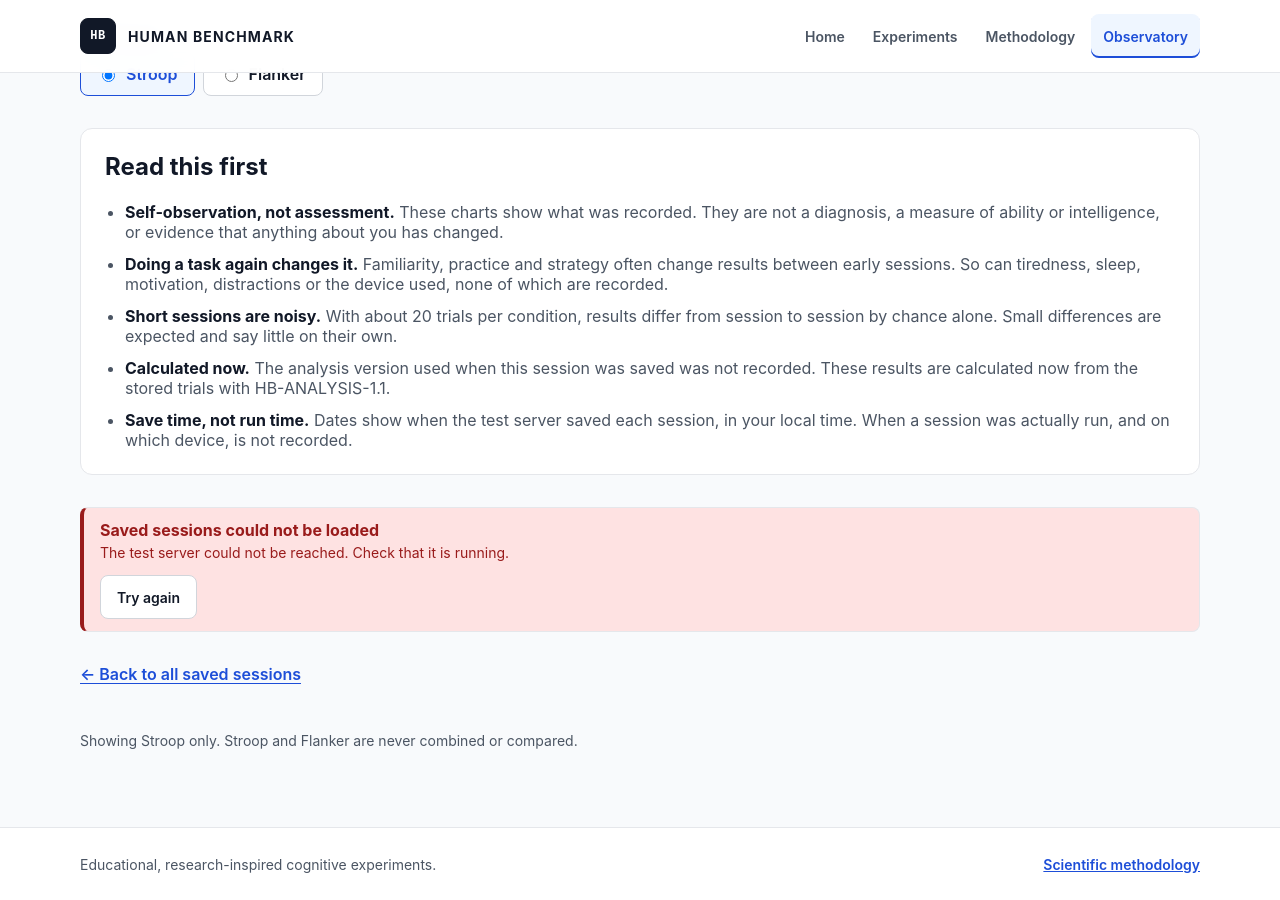
Test: Trends: states and requests › reports a failure and can try again
(page scrolled)
Expected: the message shows "could not be reached", x1=100 y1=544 x2=509 y2=561
Click the button "Try again" at {"x": 149, "y": 597}, box x1=100 y1=575 x2=197 y2=619
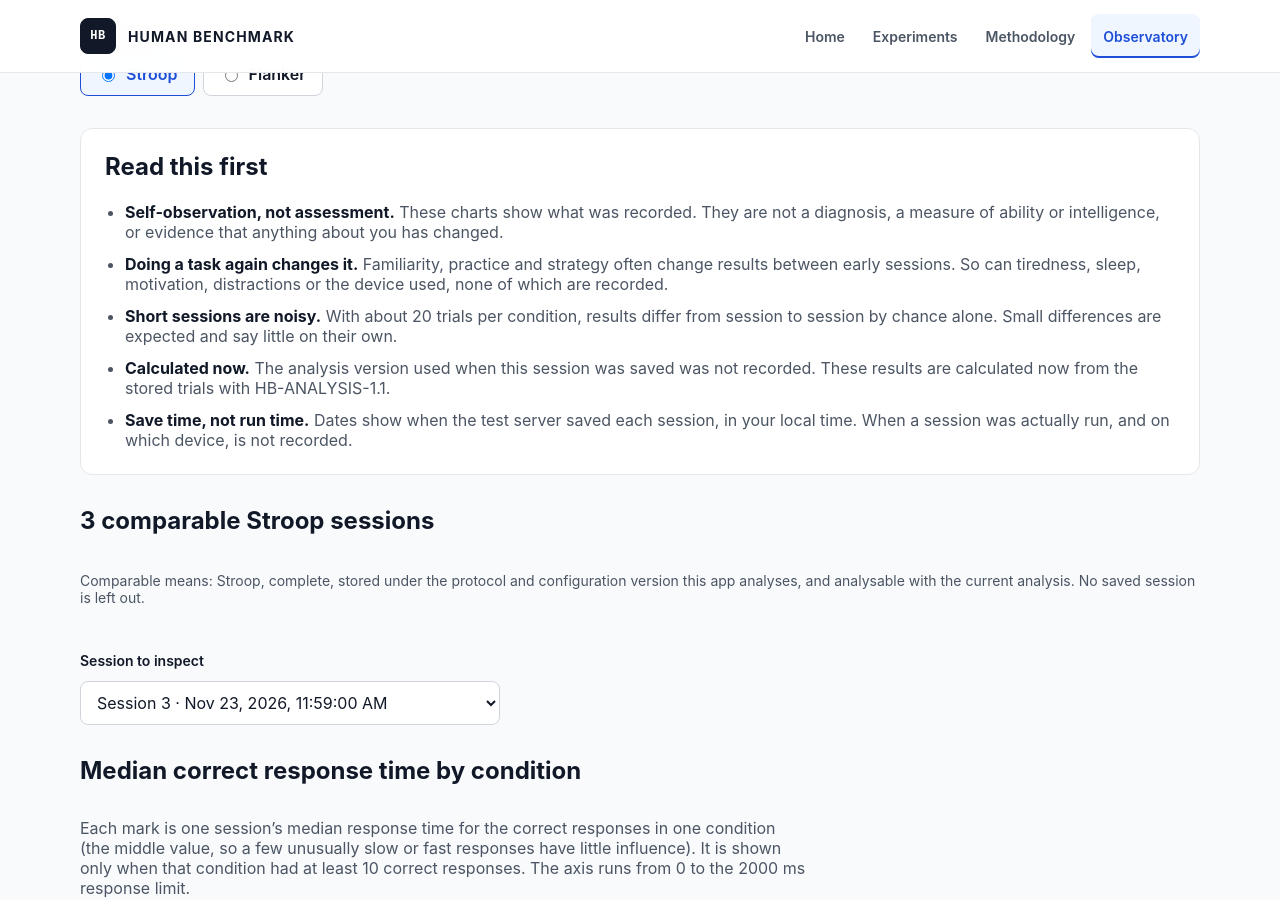
Now the heading "3 comparable Stroop sessions" is shown, box x1=80 y1=506 x2=434 y2=535
